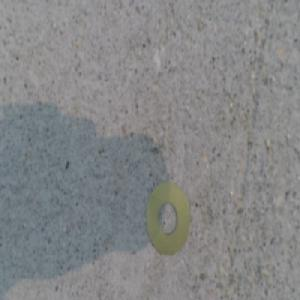Washer: (147, 183, 189, 252)
